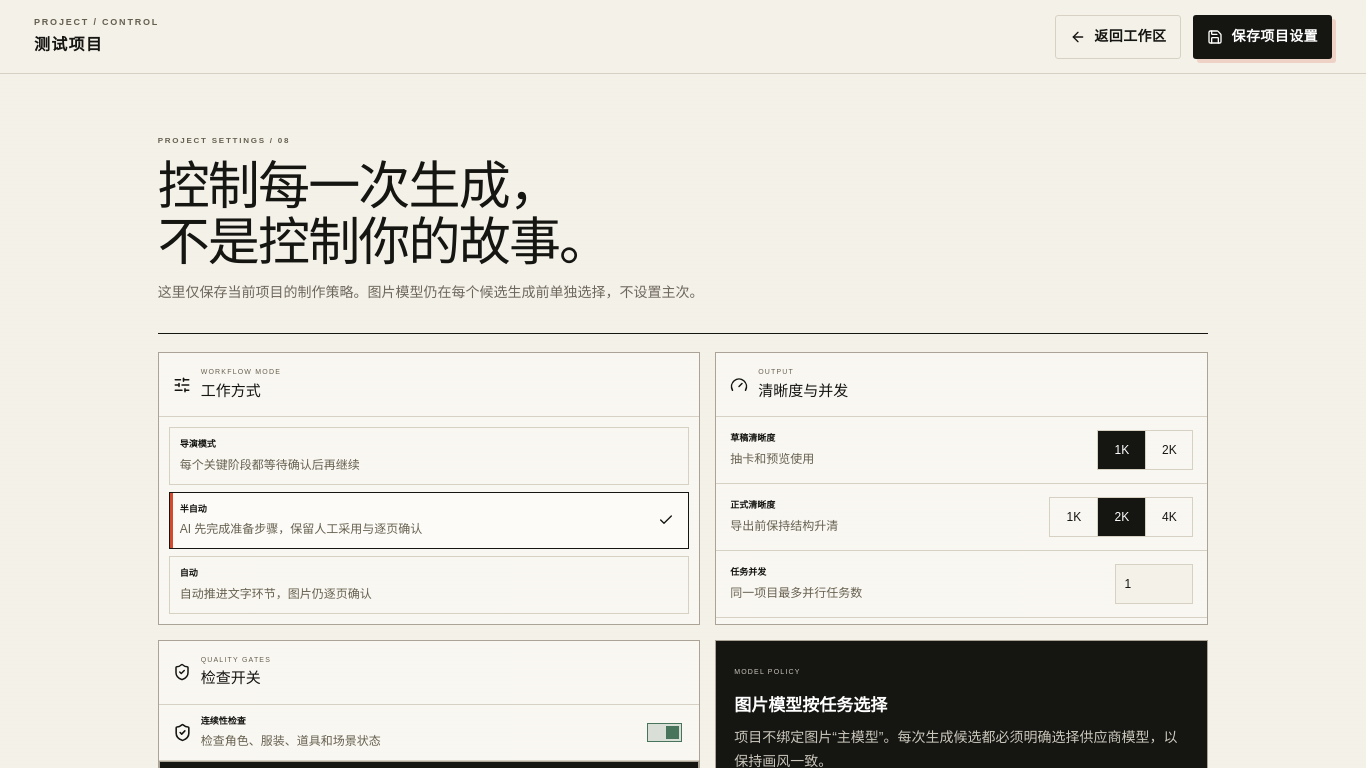
ProjectSettingsPage 409 版本冲突恢复 › 409 后失效项目缓存重拉，重试保存携带服务器新版本成功
Expected: the text "测试项目" is shown, [34,36,103,53]
Click the button "保存项目设置" at x=1263, y=36, box [1194,14,1332,58]
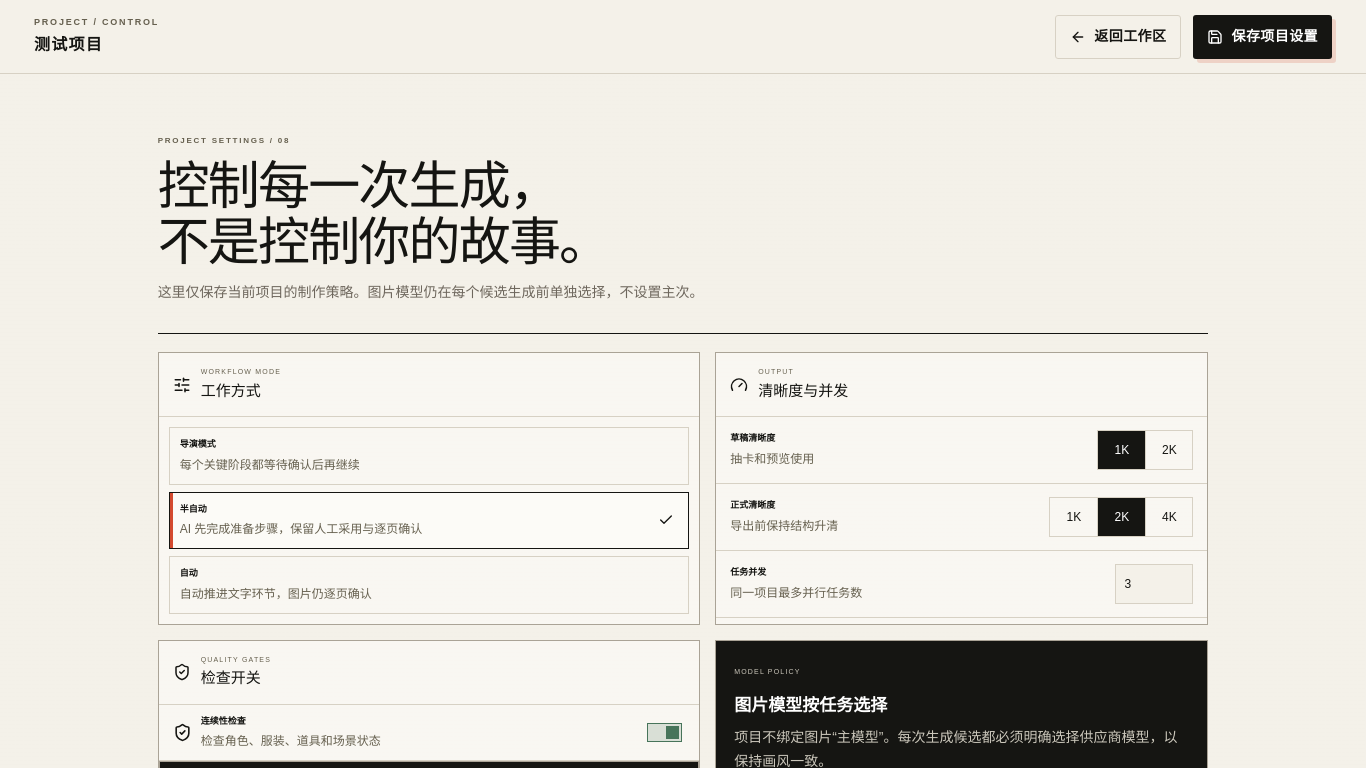
Click the button "保存项目设置" at x=1263, y=36, box [1194,14,1332,58]
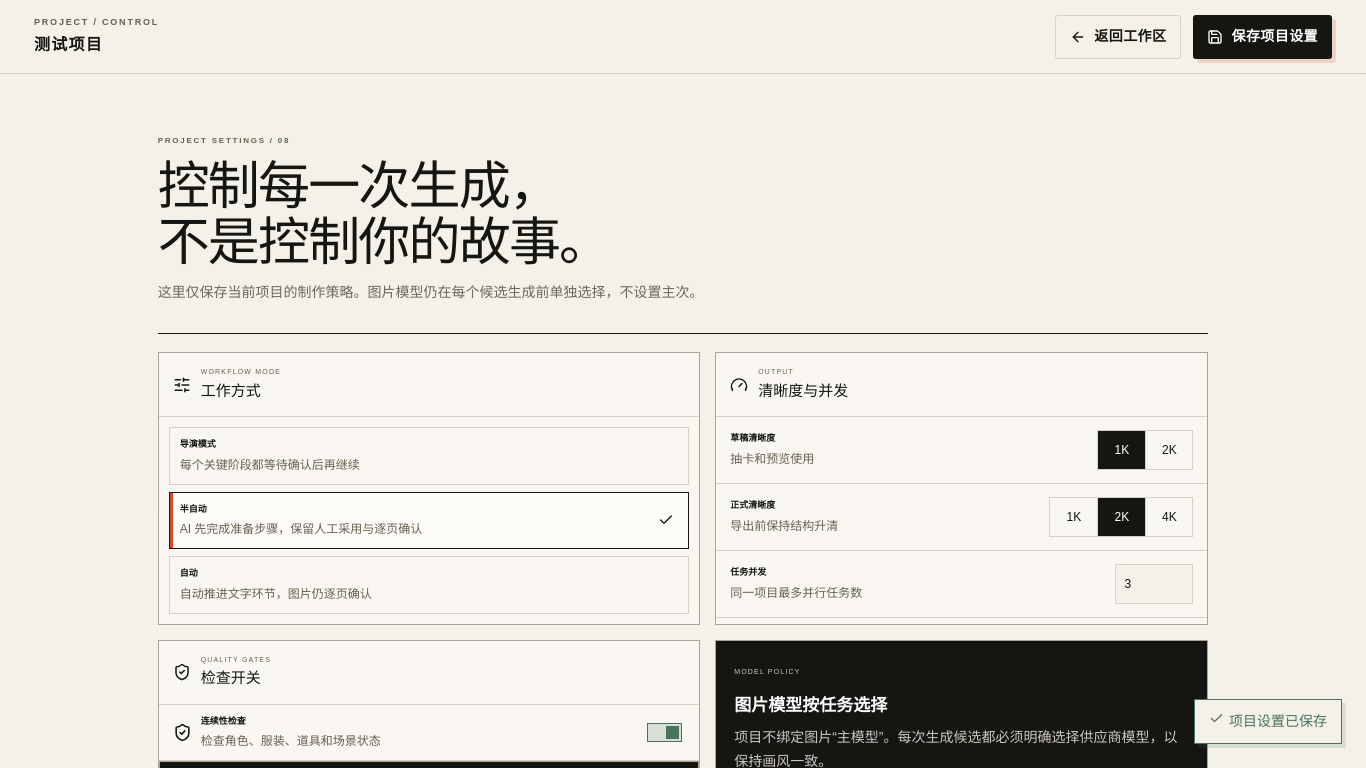
Result: the text "项目设置已保存" is shown at [1194,699,1342,744]
